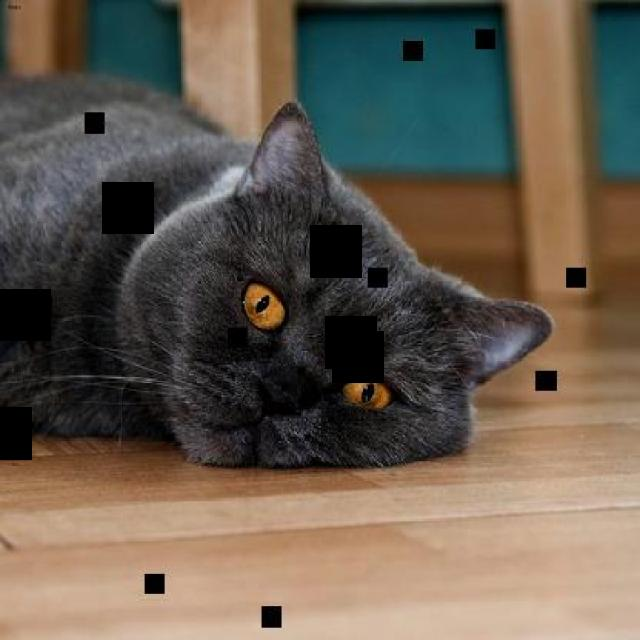unauthorized: (0, 69, 554, 471)
